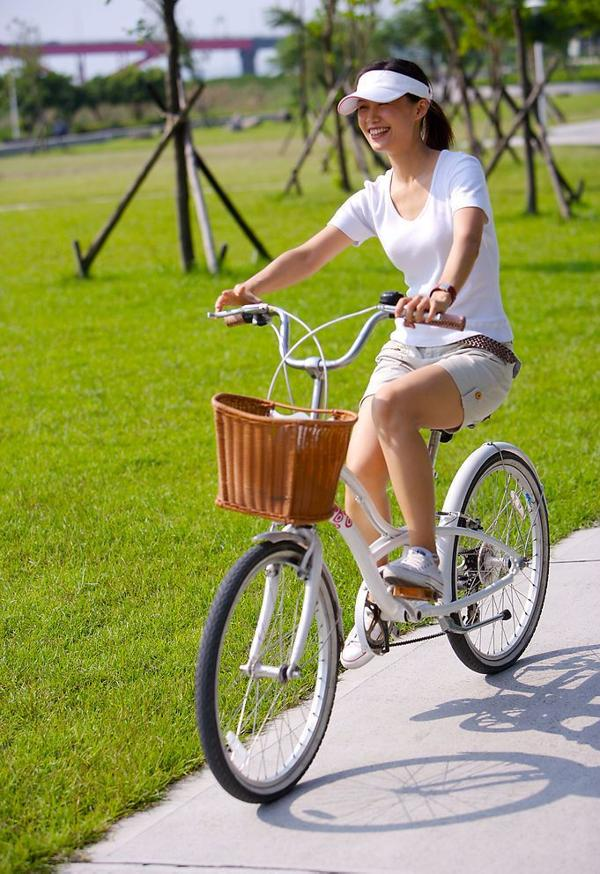person: (217, 58, 514, 670)
